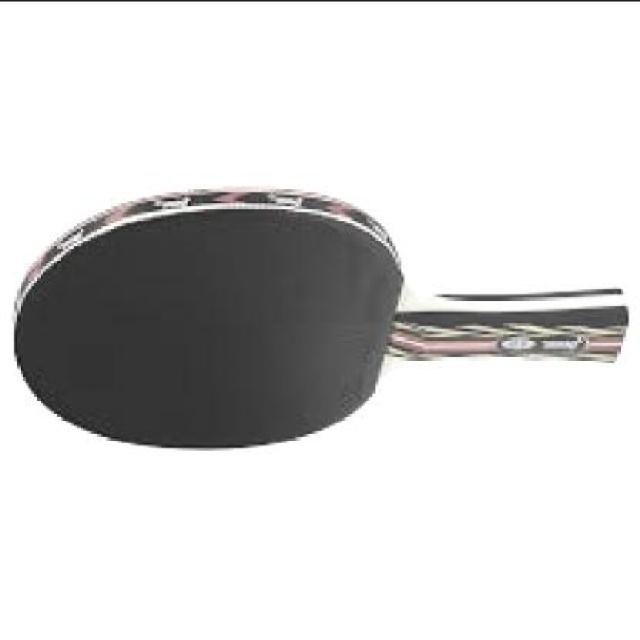table_tennis_racket: (12, 185, 631, 451)
